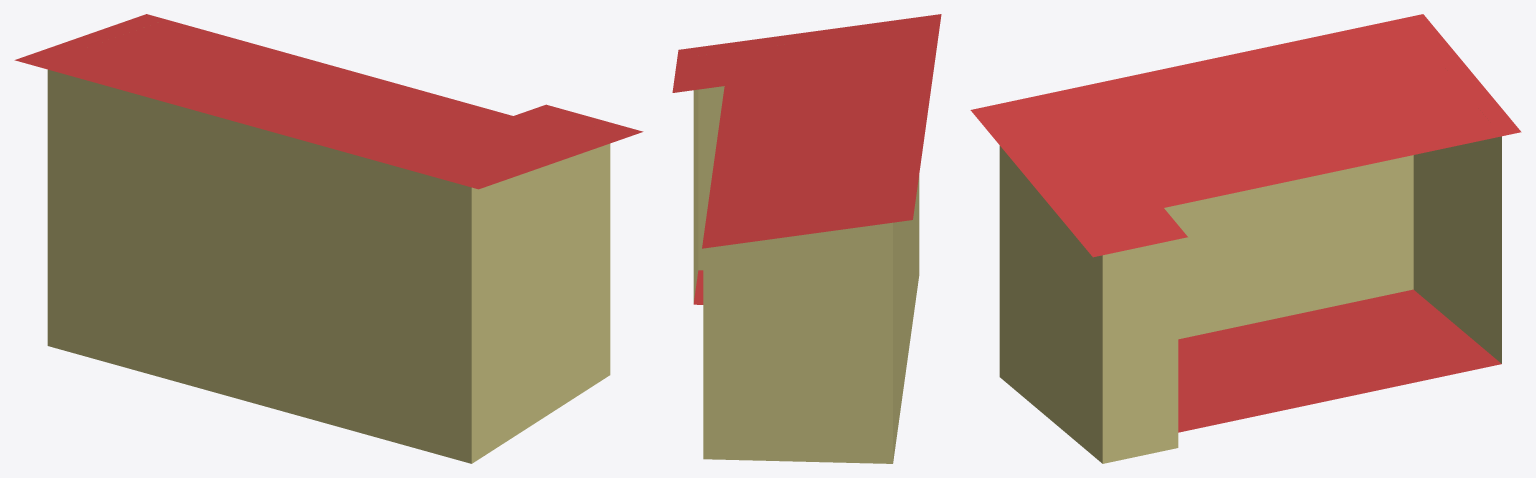
3 renders of one model, left to right at view 1: azimuth 30°, elevation 25°; view 2: azimuth 150°, elevation 25°; view 3: azimuth 270°, elevation 25°, orthographic. The views are drawn at different scales.
Size of the model in its own units: 10.74 by 12.56 by 6.61.
